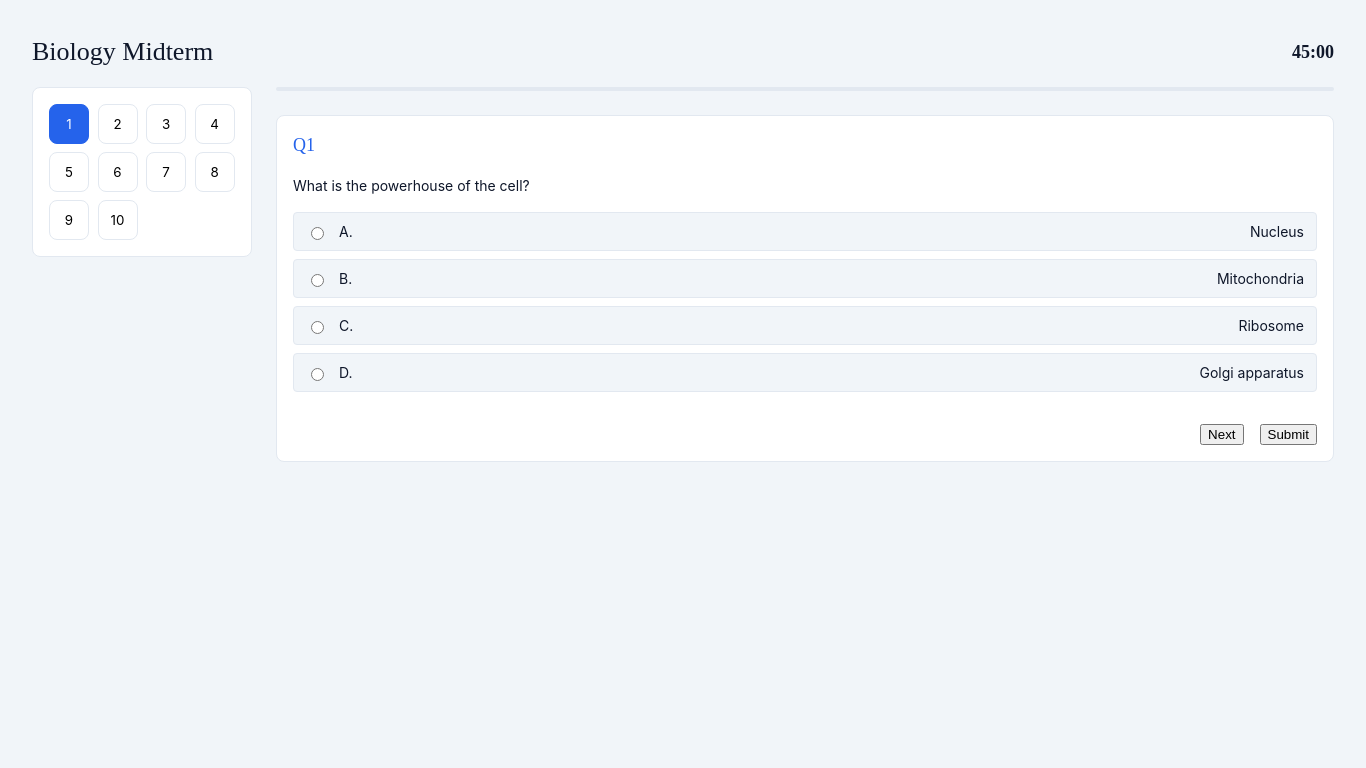
Test: ExamTaking › selecting a radio option marks the answer
Click the radio button labelled "B. Mitochondria".
click(318, 280)  # box [311,274,324,286]
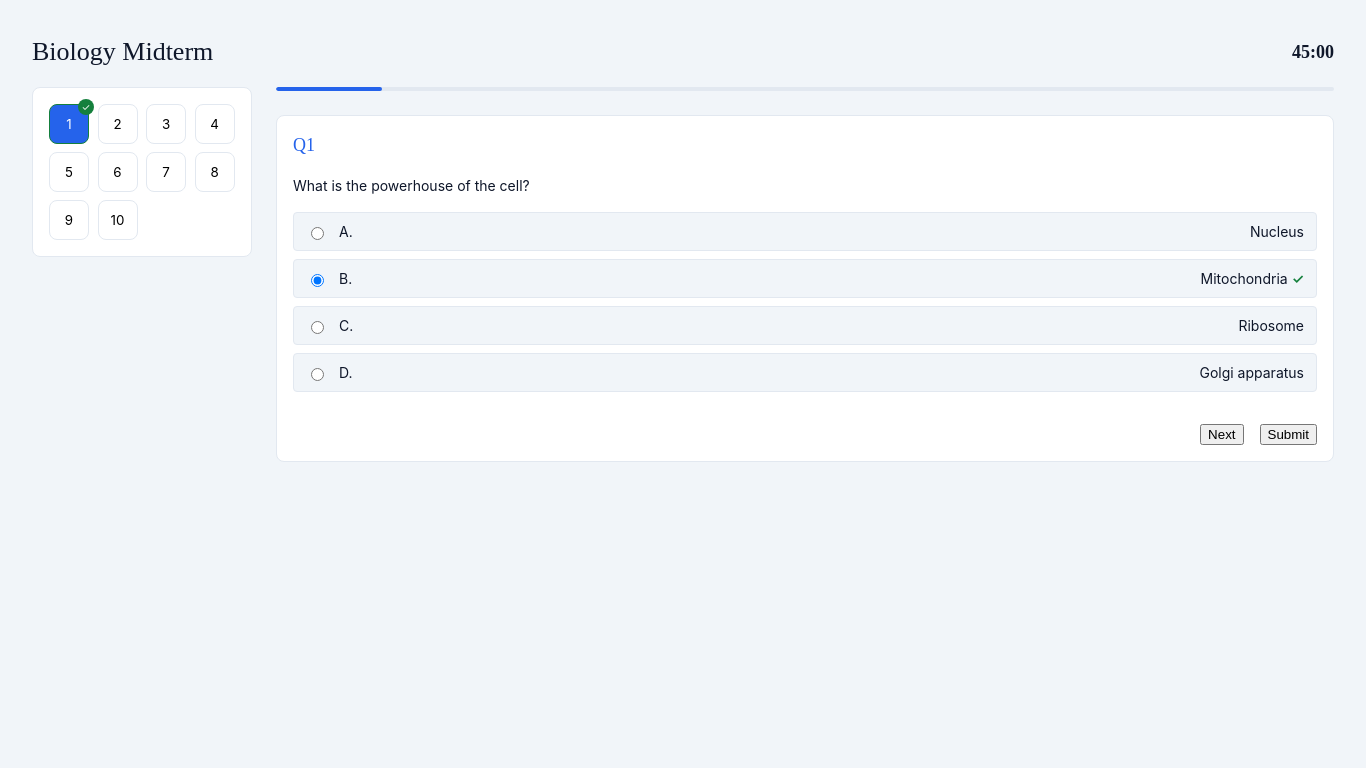
Check: the button named "Question 1, answered" is shown, box [49,104,89,144]
